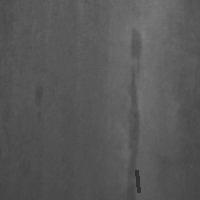inclusion: (119, 56, 146, 199), (124, 24, 147, 96), (28, 79, 49, 128), (134, 168, 140, 194)
